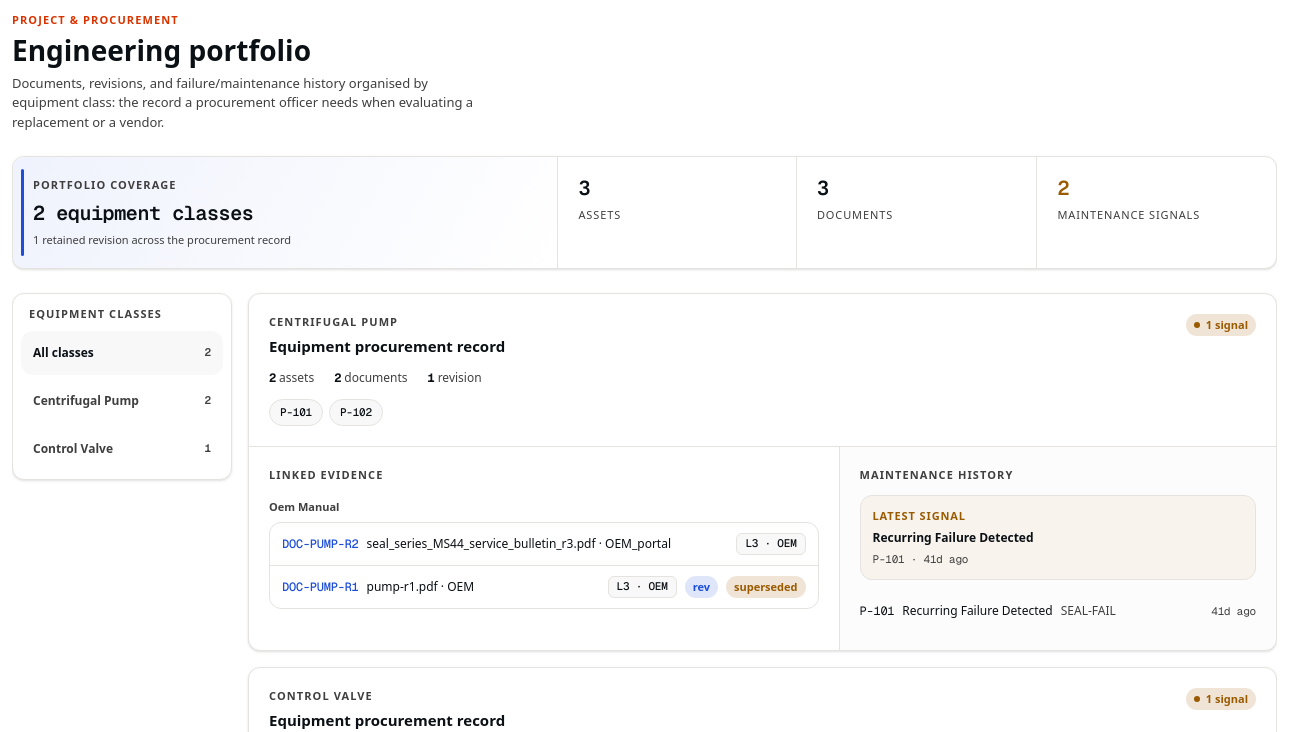
Test: ProjectsPage › renders and filters a data-driven procurement portfolio
This screenshot has width=1292, height=732.
Expected: the element with test id "projects-portfolio-pulse" shows "2 equipment classes", [12,156,1277,269]
Expected: the element with test id "projects-class-navigation" is shown, [12,293,232,480]
Click the button "Control Valve 1" at point(122, 448), box [21,426,223,470]
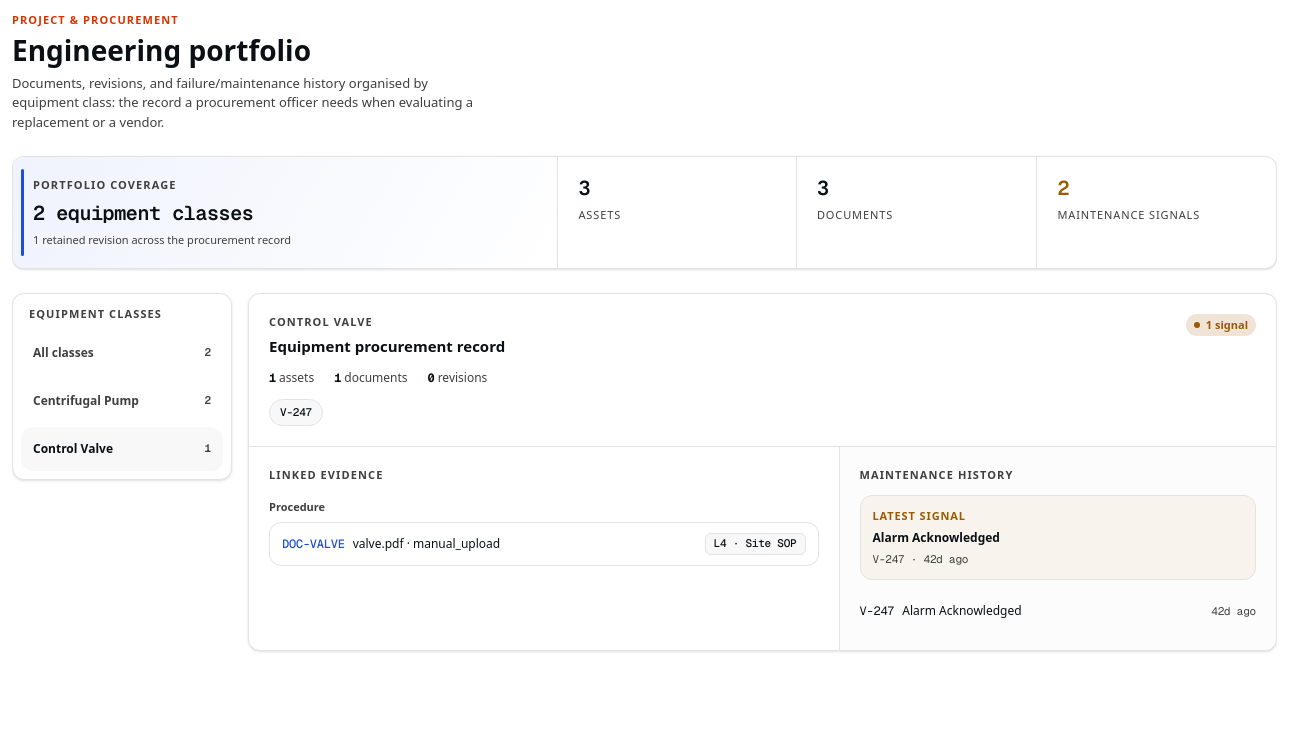
Expected: the element with test id "project-class-control-valve" is shown, [248,293,1277,651]
Expected: the element with test id "project-class-centrifugal-pump" is gone
